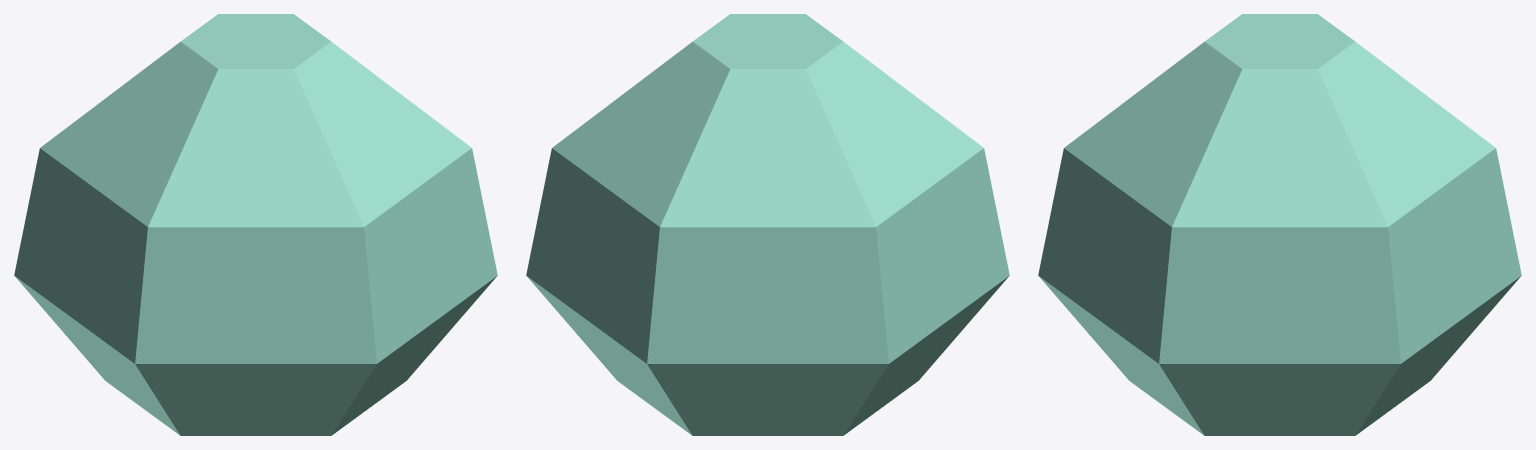
The model's file is shrub.fbx.
3 views of the same model, side by side, from view 1: azimuth 30°, elevation 25°; view 2: azimuth 150°, elevation 25°; view 3: azimuth 270°, elevation 25° (orthographic).
Parts seen in each view (by area): view 1: tree_small; view 2: tree_small; view 3: tree_small.
Boxes of the visible parts, bbox=[...] form: tree_small: bbox=[14, 14, 497, 435]; tree_small: bbox=[526, 14, 1009, 435]; tree_small: bbox=[1038, 14, 1521, 435].
Size of the model in its own units: 15.85 by 14.17 by 18.31.
